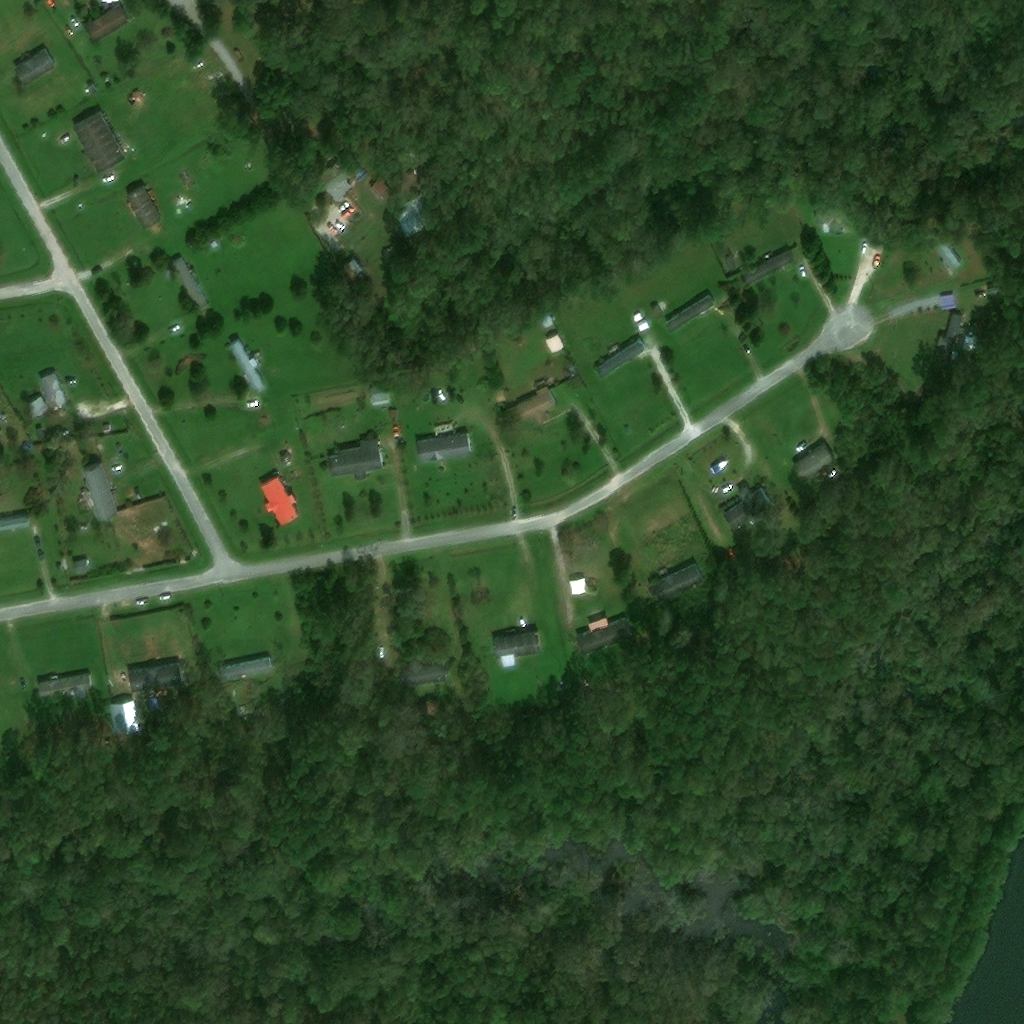no_damage: (71, 109, 127, 174), (326, 436, 384, 479), (722, 486, 775, 530), (576, 618, 632, 658), (594, 338, 646, 380), (664, 292, 715, 334), (173, 256, 210, 312), (261, 476, 302, 526), (84, 464, 118, 520), (317, 155, 358, 201), (83, 2, 130, 42), (231, 341, 266, 394), (126, 185, 165, 232), (127, 663, 186, 694), (492, 631, 542, 667), (741, 250, 792, 285), (515, 384, 557, 425), (656, 563, 703, 599), (791, 446, 834, 485), (14, 48, 57, 87), (414, 432, 473, 460), (398, 658, 448, 689), (924, 232, 958, 271), (40, 675, 94, 699), (218, 658, 274, 681), (395, 196, 429, 228), (40, 373, 68, 411), (812, 202, 846, 232), (110, 701, 138, 731), (940, 315, 962, 350), (0, 514, 31, 532), (371, 385, 392, 407), (344, 257, 364, 279), (29, 396, 48, 417), (544, 335, 564, 354), (571, 579, 588, 596), (537, 312, 552, 330), (722, 251, 734, 273), (86, 82, 100, 97), (651, 307, 663, 323), (280, 454, 293, 467), (637, 322, 651, 334), (492, 390, 506, 402), (939, 294, 951, 307), (133, 92, 144, 104), (388, 411, 399, 421), (35, 429, 45, 440), (102, 426, 113, 435), (633, 314, 643, 323), (101, 0, 118, 5)
